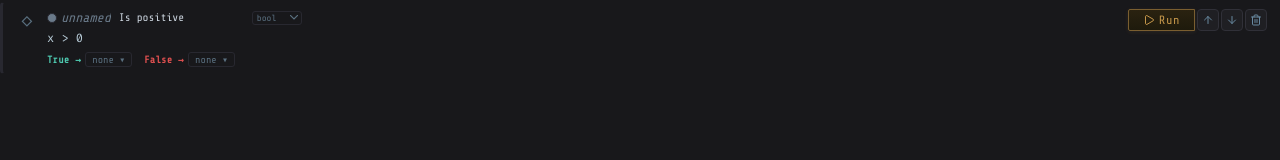
DecisionCell › path selector shows cell options when toggled open
The image size is (1280, 160).
# Click the True path toggle to open dropdown
Click the button with class "decision-path-toggle" next to "True →": (109, 60) [85,52,132,67]
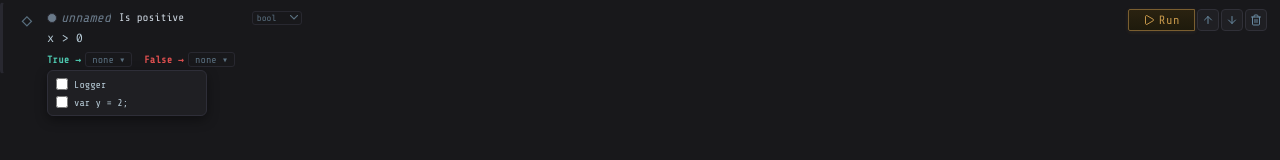
expect the text "Logger" is shown: met, box [74,78,106,90]
